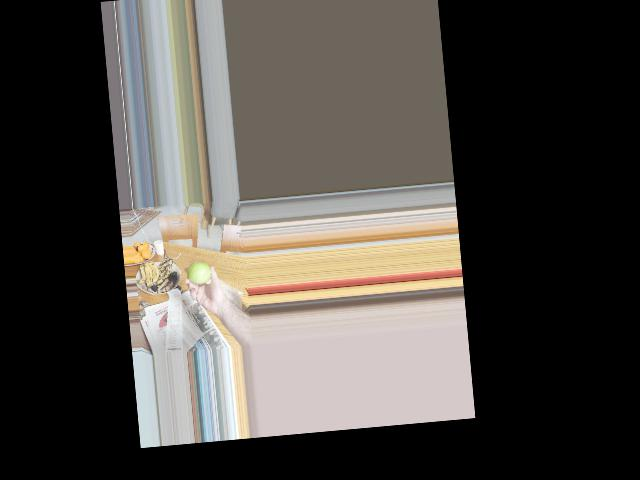apple: (185, 259, 210, 285)
